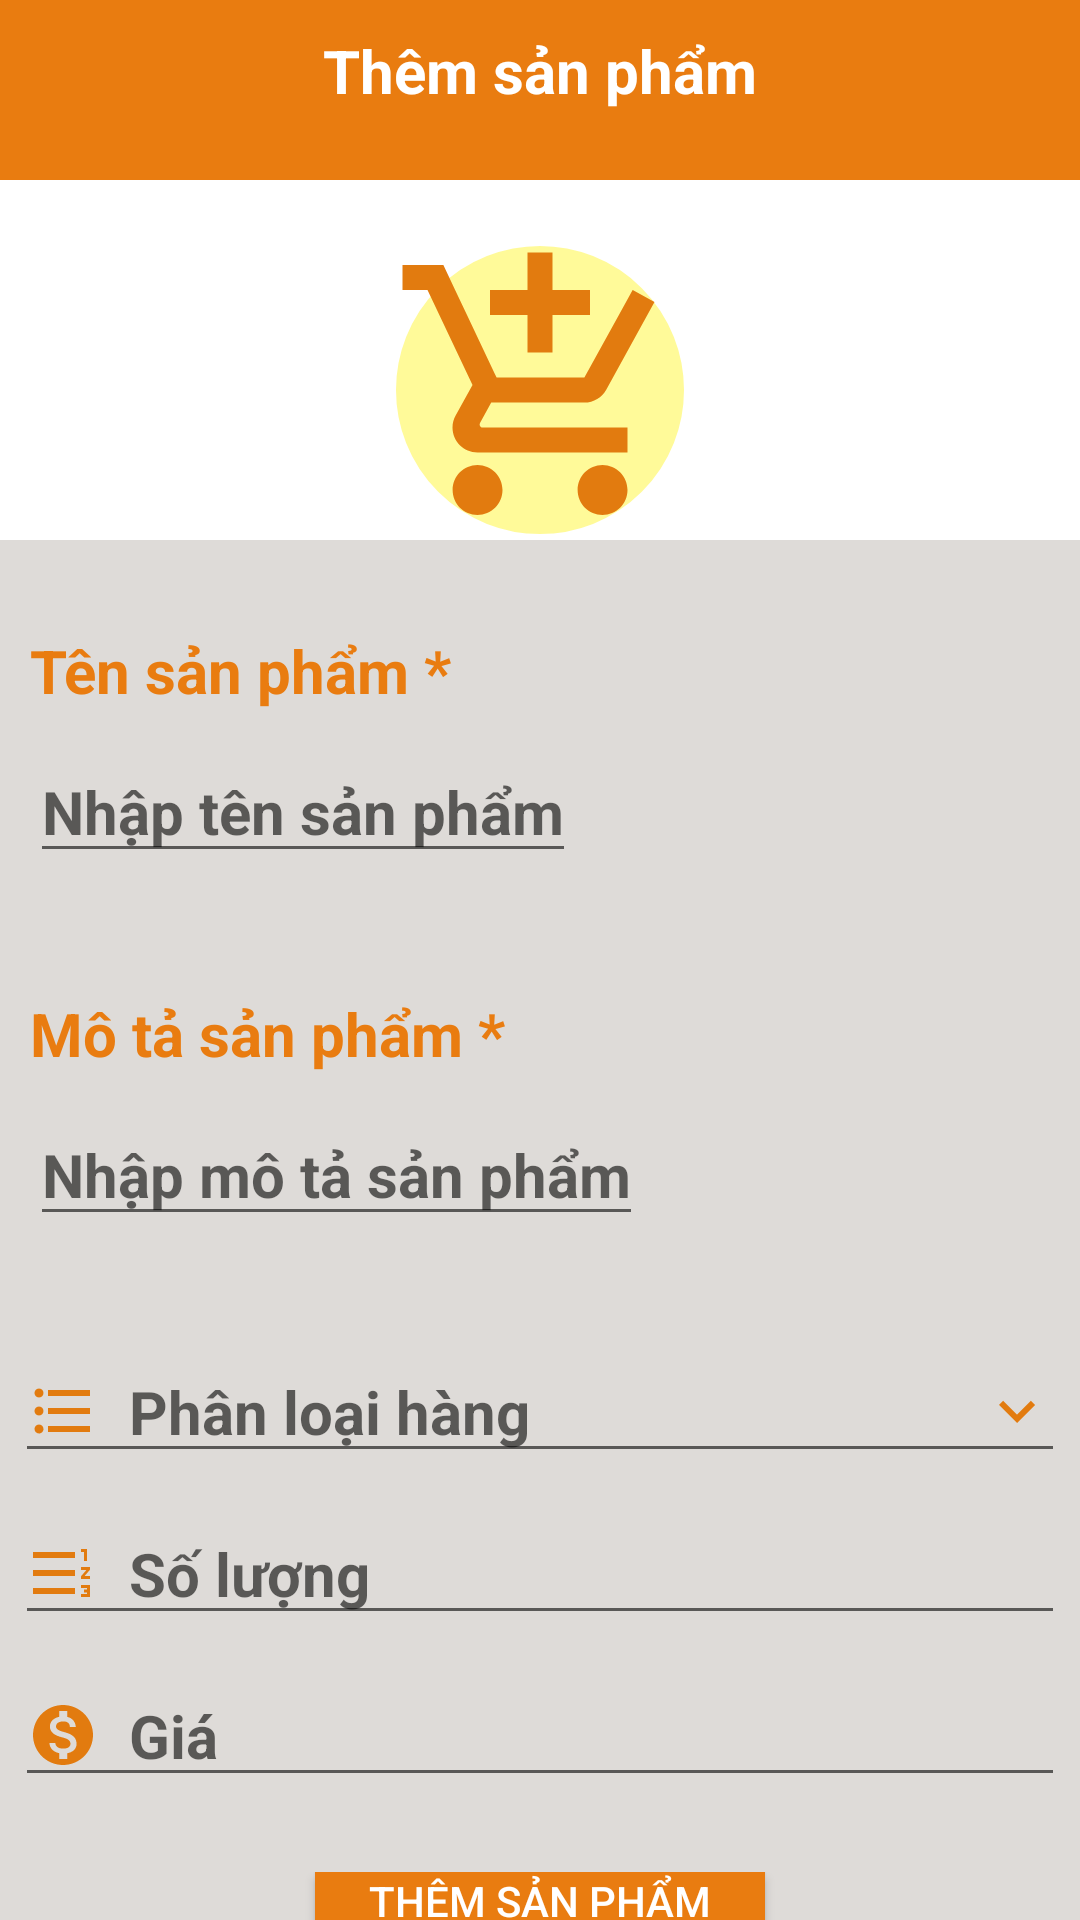

Where icons sit on this 1080x1920 app screen, as (x1, y1, x2, y2):
add shopping cart or: (396, 246, 684, 534)
